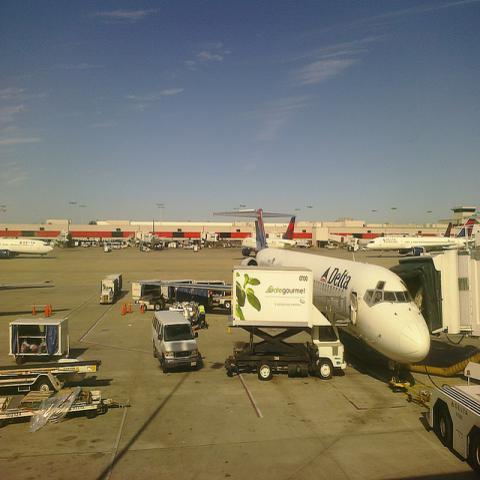car: (148, 307, 206, 372), (223, 244, 227, 248), (228, 243, 231, 247)
truck: (226, 324, 348, 382), (99, 273, 123, 304), (131, 280, 161, 303)
